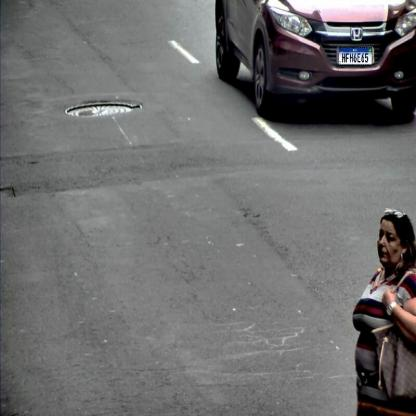PlacaM: (338, 47, 372, 65)
